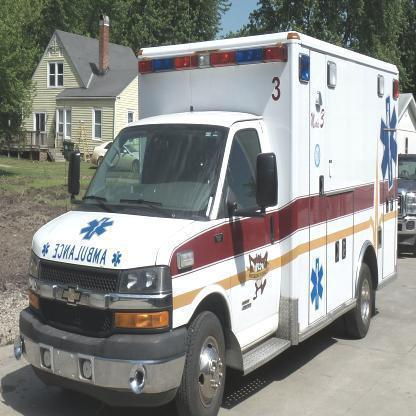Ambulance: (48, 239, 118, 269), (305, 251, 332, 319), (62, 215, 120, 245)
